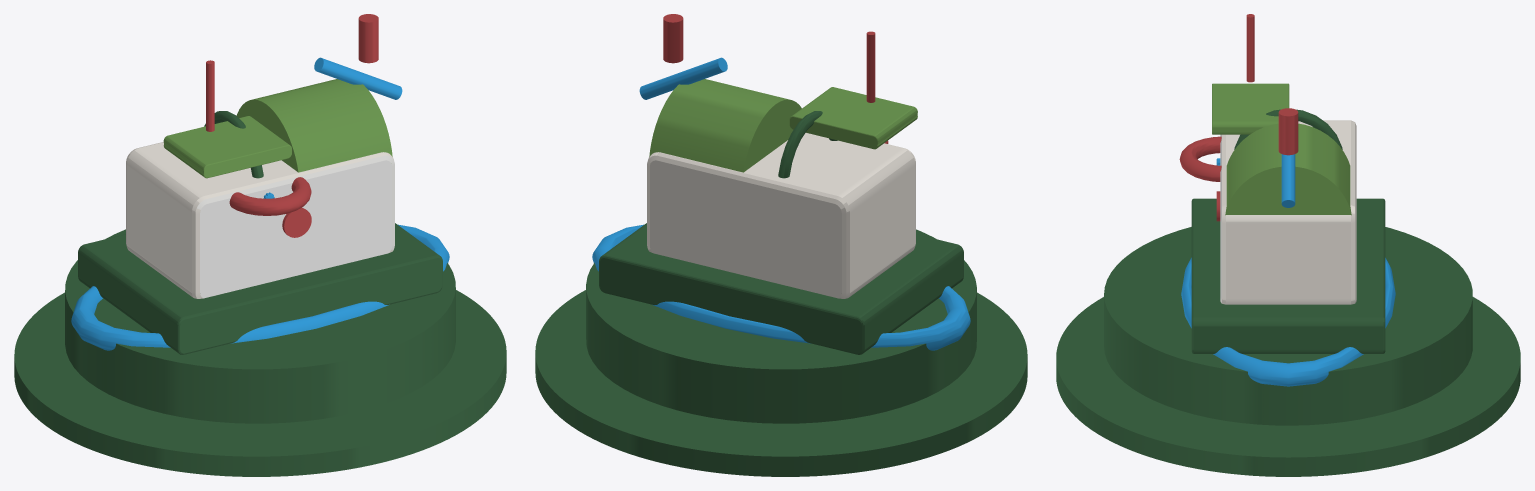
Rendered from 0207_生活中的物理图鉴_双金属温度计.glb.
3 views of the same model, side by side, from view 1: azimuth 30°, elevation 25°; view 2: azimuth 150°, elevation 25°; view 3: azimuth 270°, elevation 25° (orthographic). The views are drawn at different scales.
Parts seen in each view (by area): view 1: card_0207; view 2: card_0207; view 3: card_0207.
Boxes of the visible parts, x1,y1,x2,y2 form: card_0207: (14, 14, 506, 476); card_0207: (535, 14, 1027, 476); card_0207: (1056, 14, 1520, 476).
Size of the model in its own units: 1.31 by 1 by 1.28.
